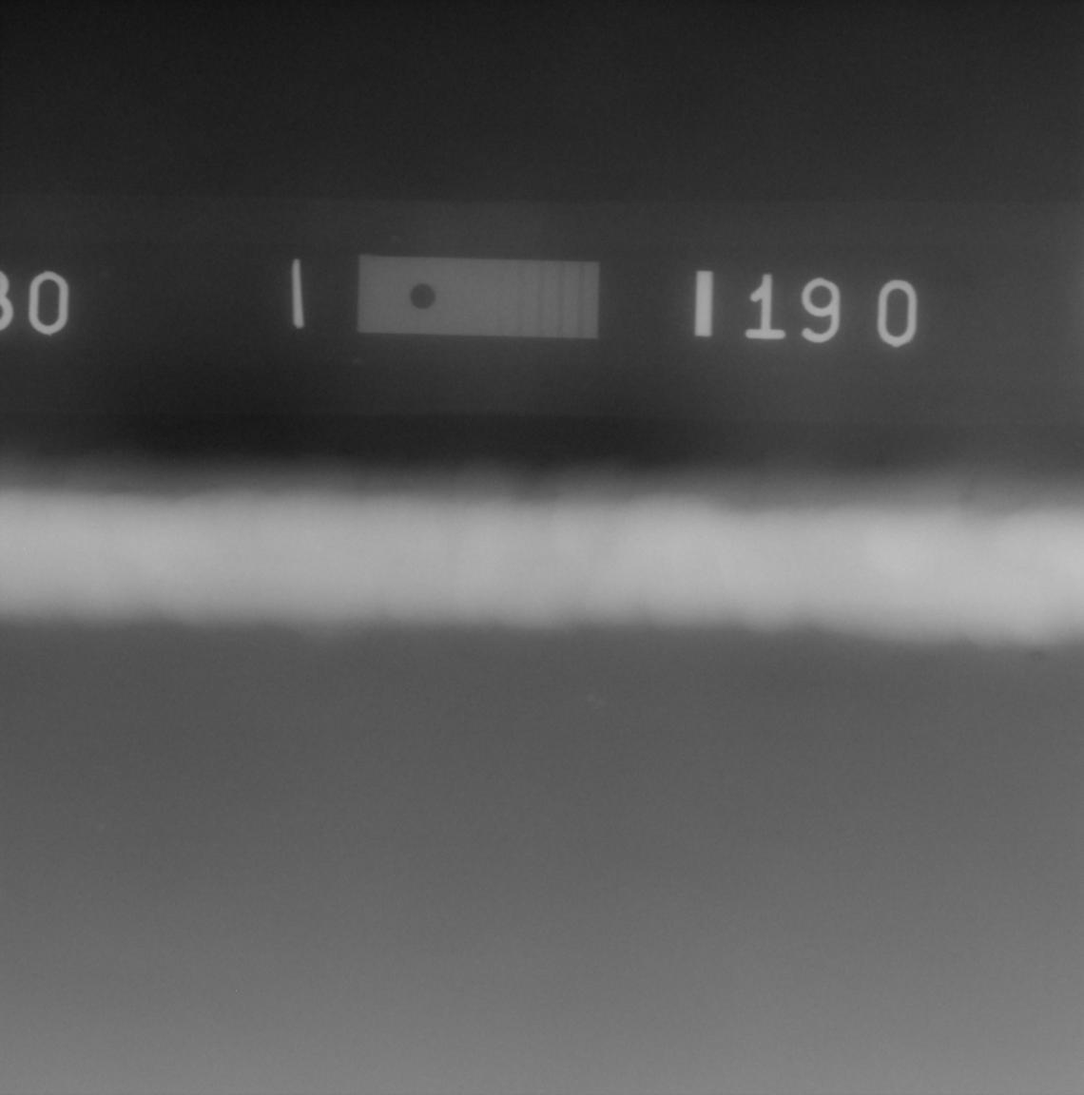Pore/Porosity: (185, 575, 188, 579)
Reference Standard 1: (356, 255, 600, 339)
Undercut: (1029, 653, 1047, 662)
